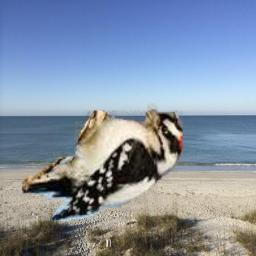Woodpecker: (17, 103, 183, 221)
